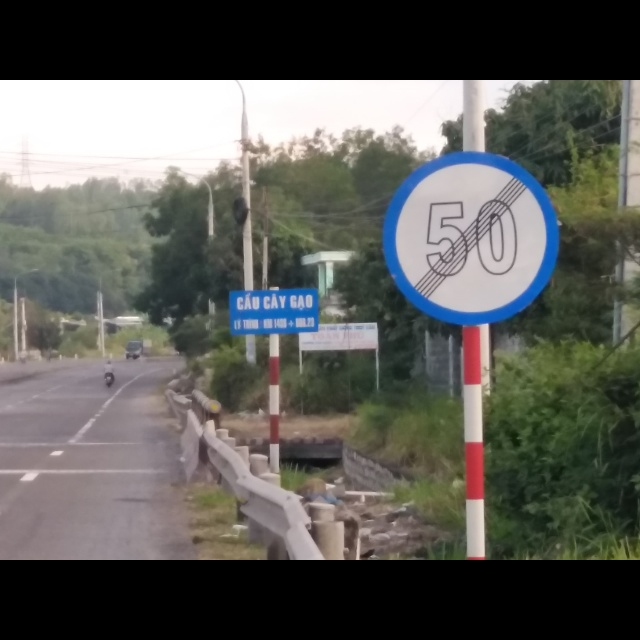Hết hạn chế tốc độ tối đa 50km/h: (380, 151, 560, 325)
